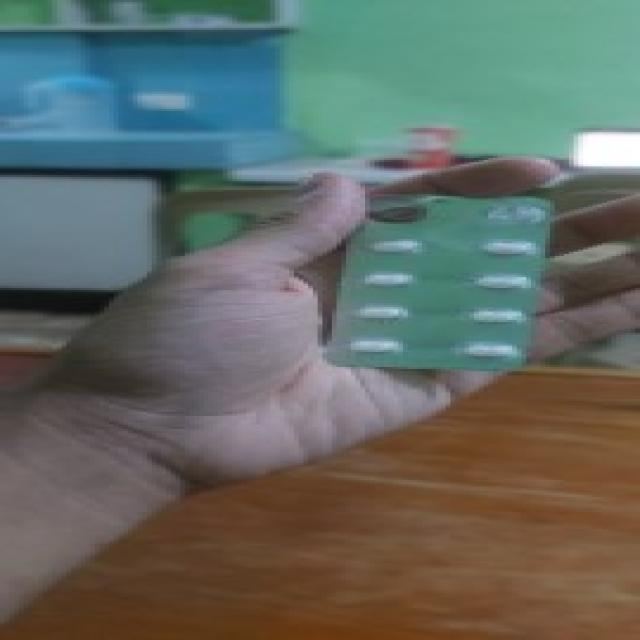Cacat: (344, 200, 526, 372)
Kemasan: (370, 204, 446, 229)
